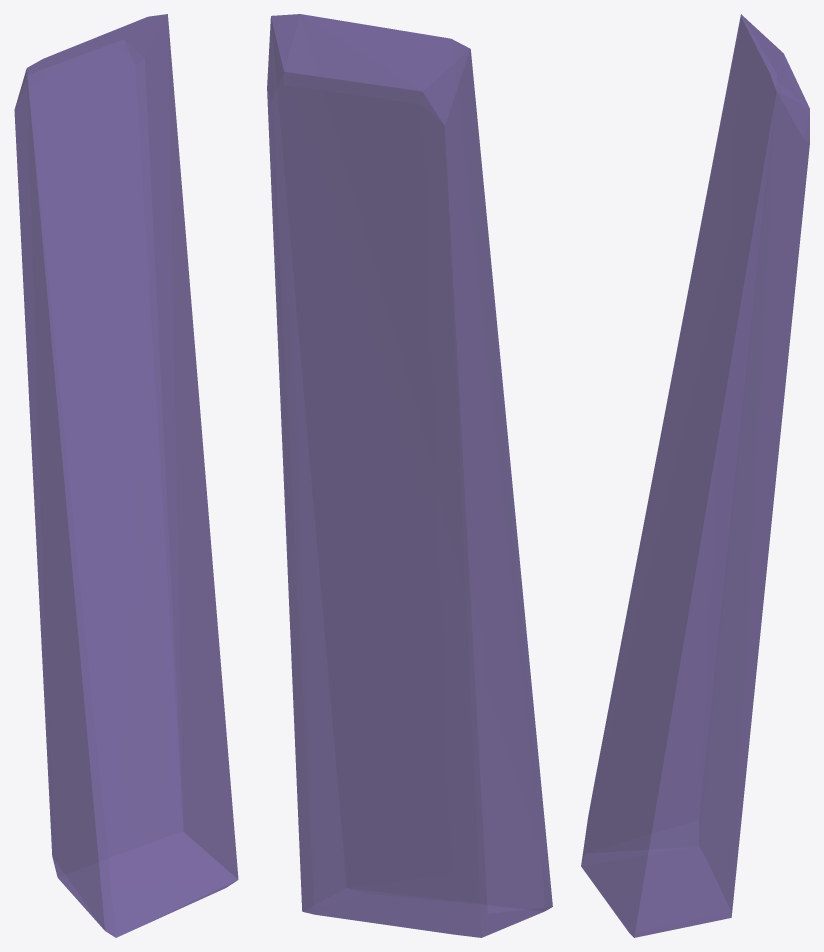
3 views of the same model, side by side, from view 1: azimuth 30°, elevation 25°; view 2: azimuth 150°, elevation 25°; view 3: azimuth 270°, elevation 25° (orthographic). The views are drawn at different scales.
Parts seen in each view (by area): view 1: Shape_IndexedFaceSet.012_Shape_IndexedFaceSet.8291; view 2: Shape_IndexedFaceSet.012_Shape_IndexedFaceSet.8291; view 3: Shape_IndexedFaceSet.012_Shape_IndexedFaceSet.8291.
Boxes of the visible parts, <box> form: Shape_IndexedFaceSet.012_Shape_IndexedFaceSet.8291: <box>14,14,238,937</box>; Shape_IndexedFaceSet.012_Shape_IndexedFaceSet.8291: <box>267,14,552,937</box>; Shape_IndexedFaceSet.012_Shape_IndexedFaceSet.8291: <box>581,14,809,937</box>.
Size of the model in its own units: 0.1854 by 0.9112 by 0.2213.
